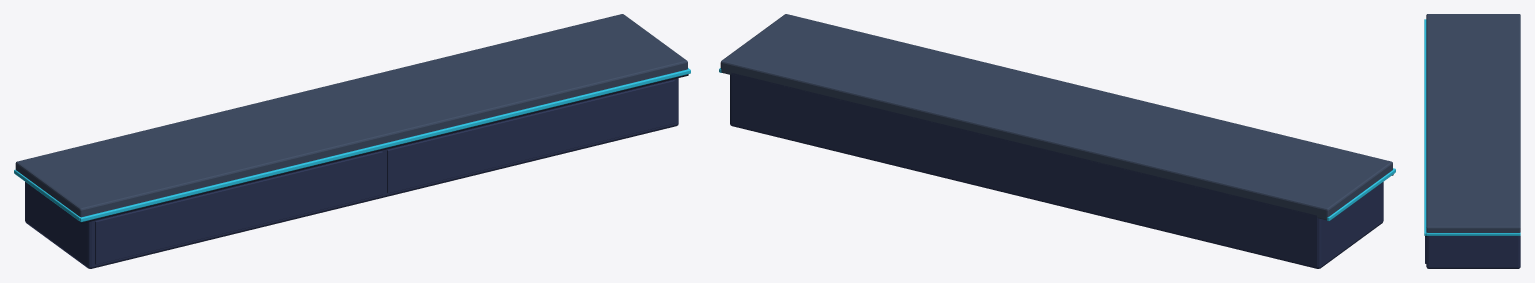
File: midnight-counter.glb
The picture shows the model from 3 angles, left to right: view 1: azimuth 30°, elevation 25°; view 2: azimuth 150°, elevation 25°; view 3: azimuth 270°, elevation 25°; orthographic projection. The views are drawn at different scales.
Parts seen in each view (by area): view 1: Counter_Body; view 2: Counter_Body; view 3: Counter_Body.
Part boxes in pixels (x1,y1,x2,y2): Counter_Body: (14,14,690,268); Counter_Body: (719,14,1395,268); Counter_Body: (1424,14,1520,268).
Size of the model in its own units: 8.89 by 0.885 by 1.69.
